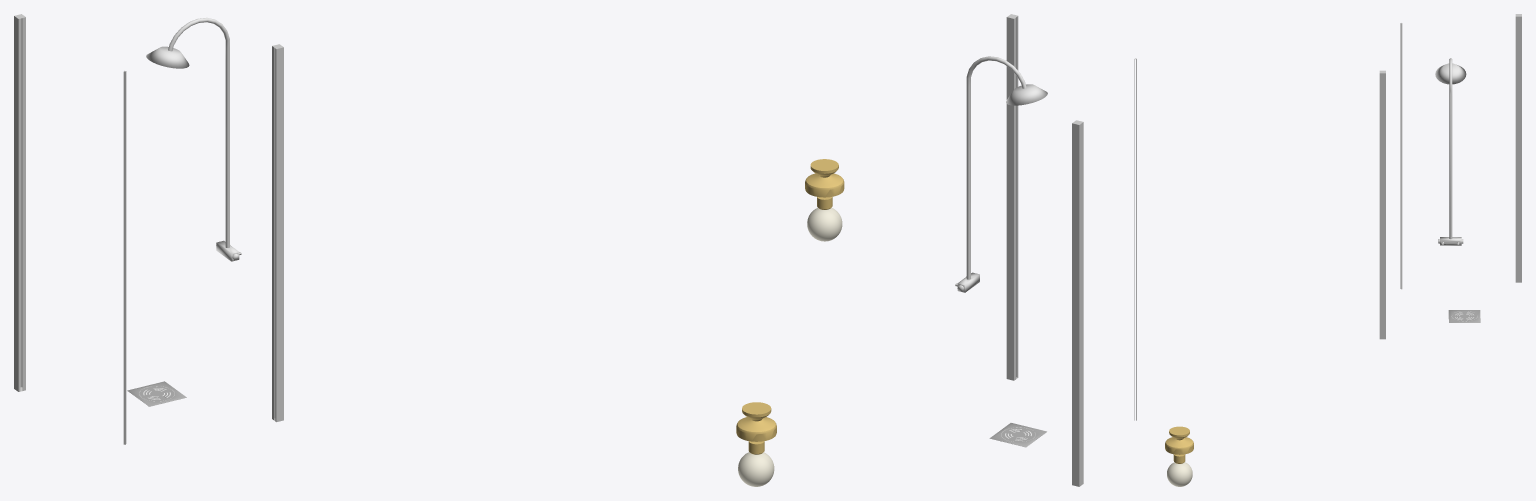
File: I dont know what to name thins.fbx
3 renders of one model, left to right at view 1: azimuth 30°, elevation 25°; view 2: azimuth 150°, elevation 25°; view 3: azimuth 270°, elevation 25°, orthographic. The views are drawn at different scales.
Parts seen in each view (by area): view 1: shower_01_90x90_shower, Lamp; view 2: shower_01_90x90_shower, Lamp; view 3: shower_01_90x90_shower, Lamp.
Boxes of the visible parts, x1=… form: shower_01_90x90_shower: x1=14, y1=14, x2=283, y2=444; Lamp: x1=736, y1=402, x2=776, y2=486; shower_01_90x90_shower: x1=955, y1=14, x2=1136, y2=486; Lamp: x1=805, y1=159, x2=844, y2=241; shower_01_90x90_shower: x1=1379, y1=14, x2=1521, y2=339; Lamp: x1=1165, y1=426, x2=1193, y2=486.
Size of the model in its own units: 276 by 211 by 230.
